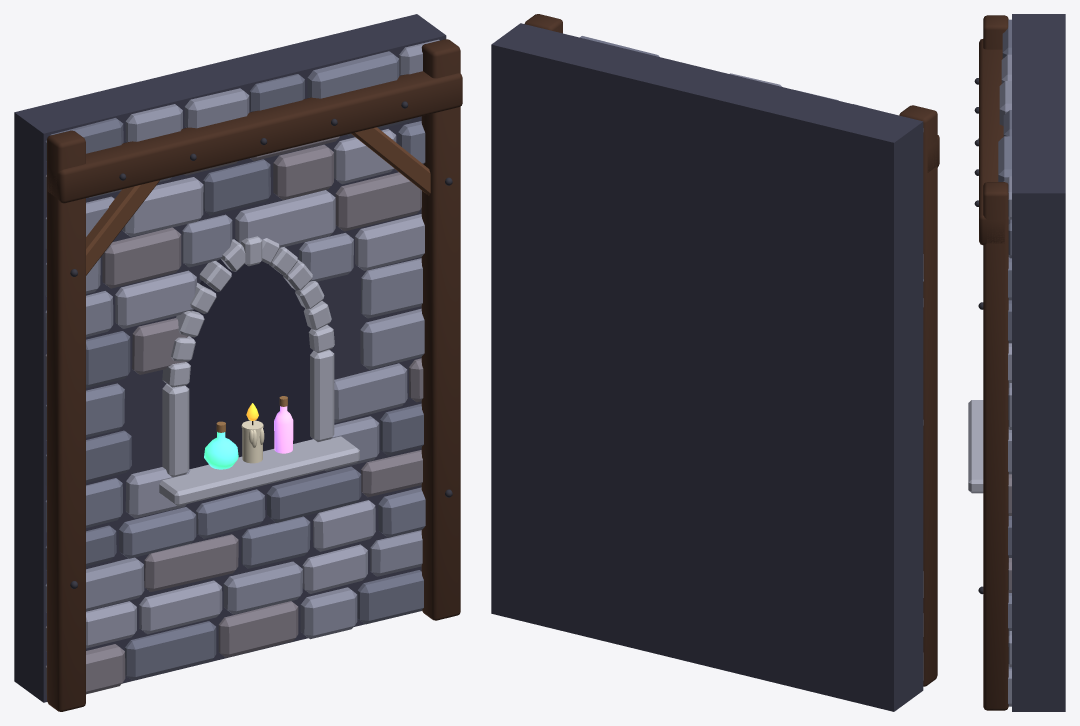
File: magic_wall_arch.glb
3 views of the same model, side by side, from view 1: azimuth 30°, elevation 25°; view 2: azimuth 150°, elevation 25°; view 3: azimuth 270°, elevation 25° (orthographic). The views are drawn at different scales.
Parts seen in each view (by area): view 1: magic_wall_arch; view 2: magic_wall_arch; view 3: magic_wall_arch.
Boxes of the visible parts, bbox=[...] form: magic_wall_arch: bbox=[14, 14, 462, 711]; magic_wall_arch: bbox=[491, 14, 939, 711]; magic_wall_arch: bbox=[968, 14, 1065, 711].
Size of the model in its own units: 2 by 2.7 by 0.458.
